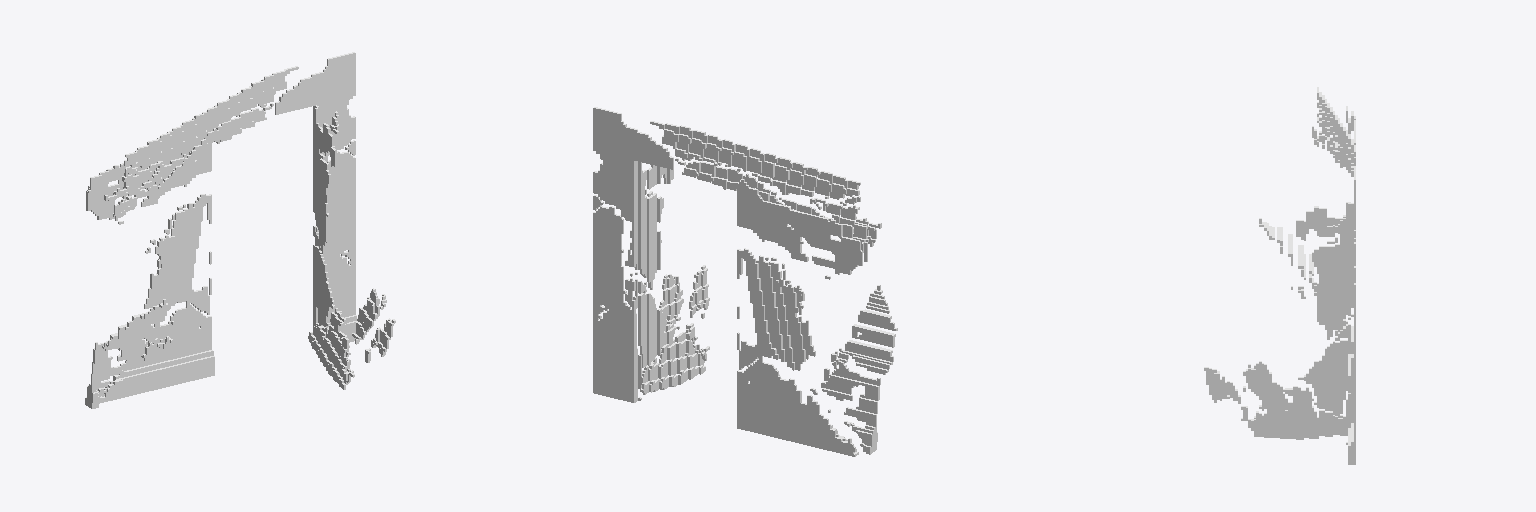
File: door3.vox.obj
3 views of the same model, side by side, from view 1: azimuth 30°, elevation 25°; view 2: azimuth 150°, elevation 25°; view 3: azimuth 270°, elevation 25° (orthographic).
Visible parts, largest first — view 1: object 1; view 2: object 1; view 3: object 1.
Boxes of the visible parts, box(x1,y1,x2,y2) form: object 1: box(85, 52, 395, 408); object 1: box(593, 107, 897, 456); object 1: box(1204, 87, 1355, 464).
Size of the model in its own units: 12 by 12 by 5.8.